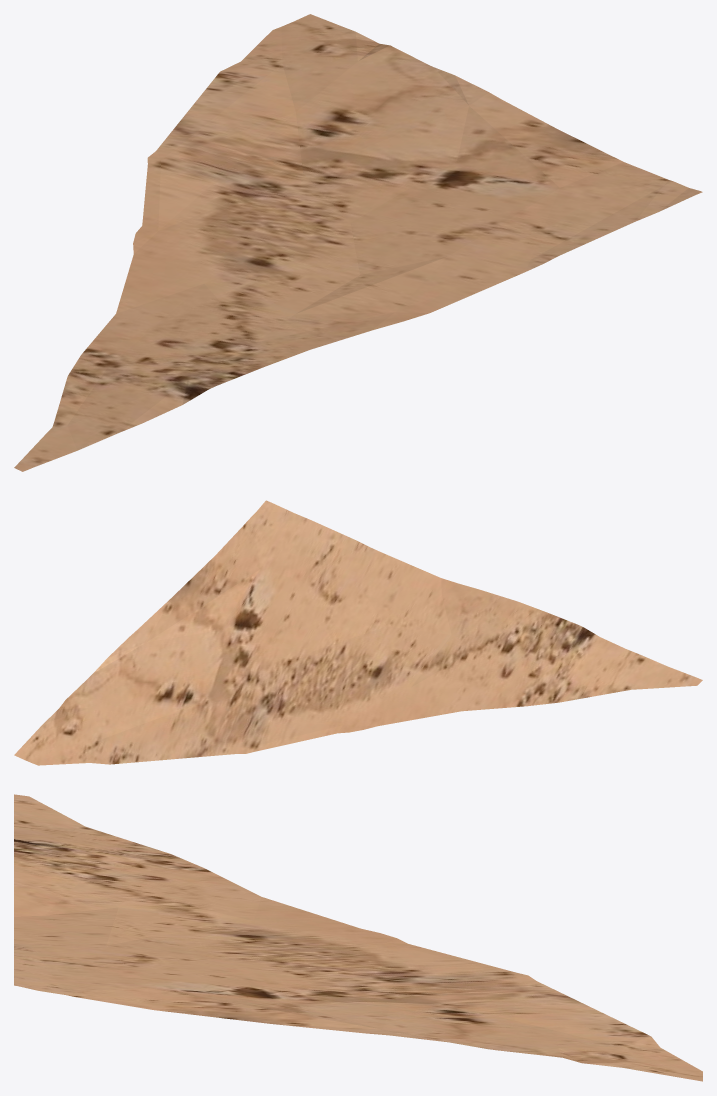
The picture shows the model from 3 angles, top to bottom: view 1: azimuth 30°, elevation 25°; view 2: azimuth 150°, elevation 25°; view 3: azimuth 270°, elevation 25°; orthographic projection. The views are drawn at different scales.
Bounding box in the file's own units: 1.04 × 0.1706 × 1.04.
Materials: 2 (2 with a texture image).
